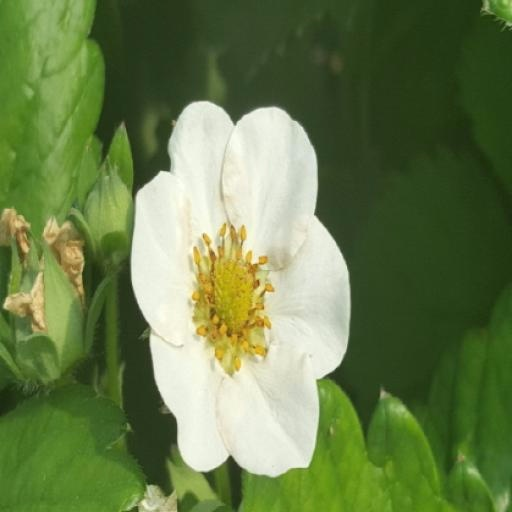Blossom Blight: (233, 218, 325, 375)
